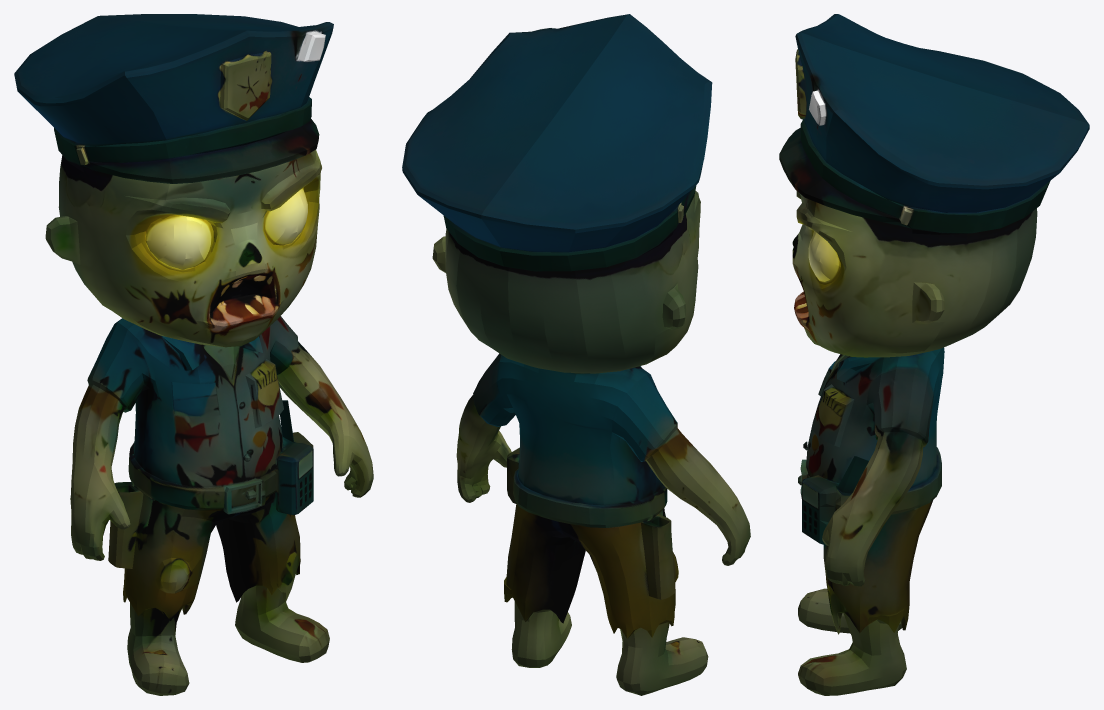
The model's file is base_basic_pbr.fbx.
3 renders of one model, left to right at view 1: azimuth 30°, elevation 25°; view 2: azimuth 150°, elevation 25°; view 3: azimuth 270°, elevation 25°, orthographic. The views are drawn at different scales.
Visible parts, largest first — view 1: model; view 2: model; view 3: model.
Boxes of the visible parts, x1,y1,x2,y2 form: model: [14, 14, 373, 695]; model: [402, 14, 750, 695]; model: [779, 14, 1089, 695].
Size of the model in its own units: 89.06 by 190 by 85.72.
1 material, 1 textured.
